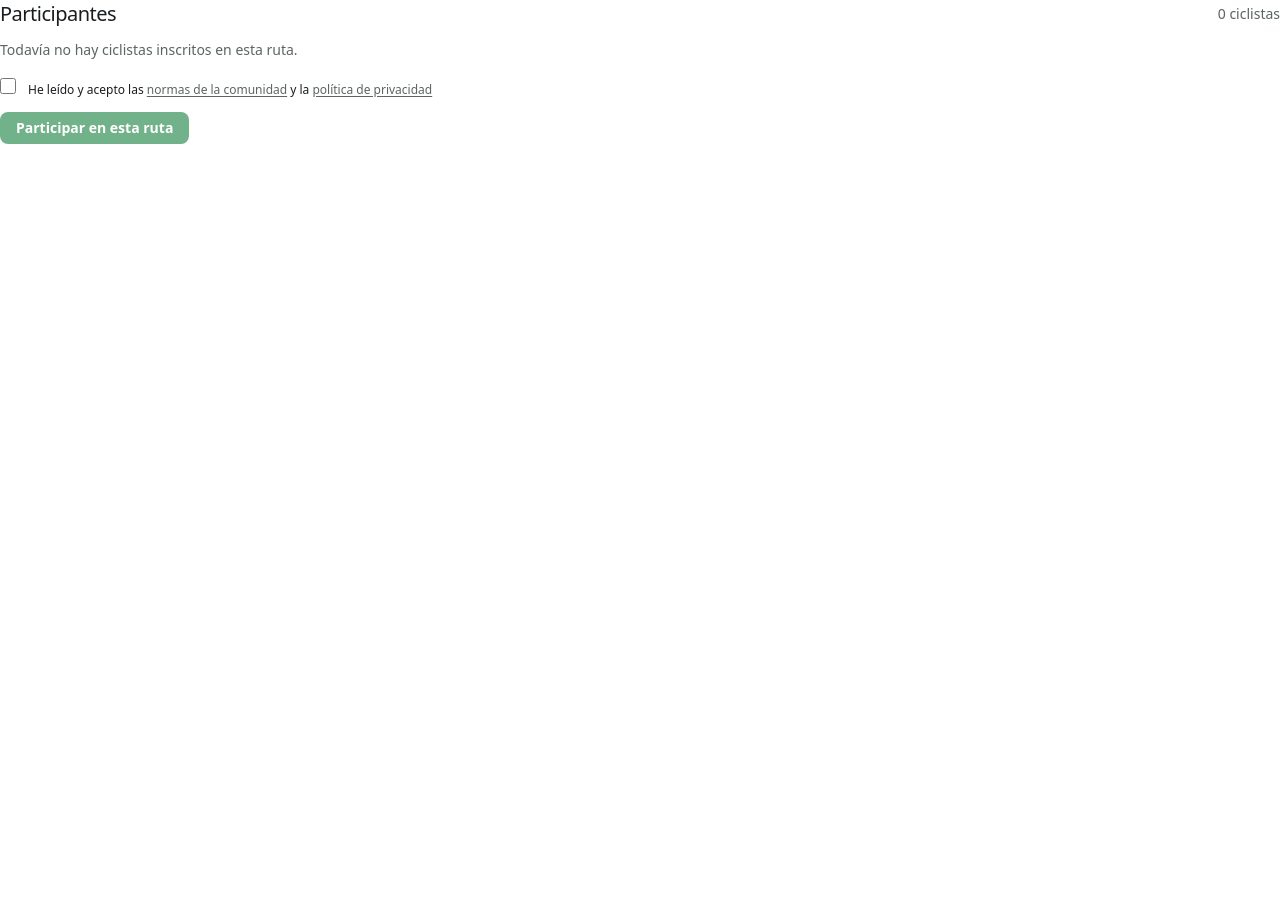
Test case: RideParticipants › opens the community rules from the inline link without toggling the checkbox
Click the button "normas de la comunidad". click: (217, 90)
box: [147,82,287,98]
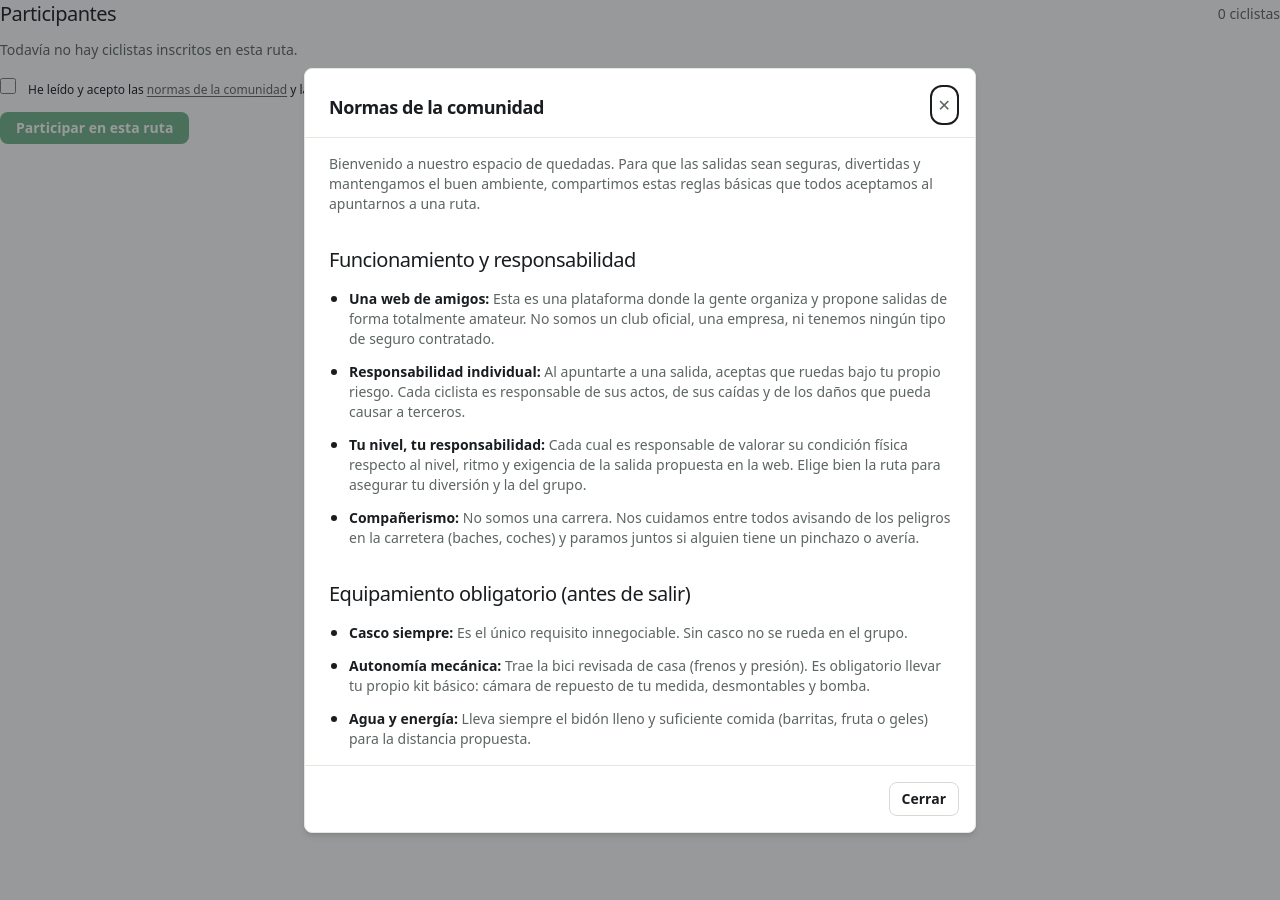
Check: the dialog shows "Normas de la comunidad", box [329,94,544,118]
